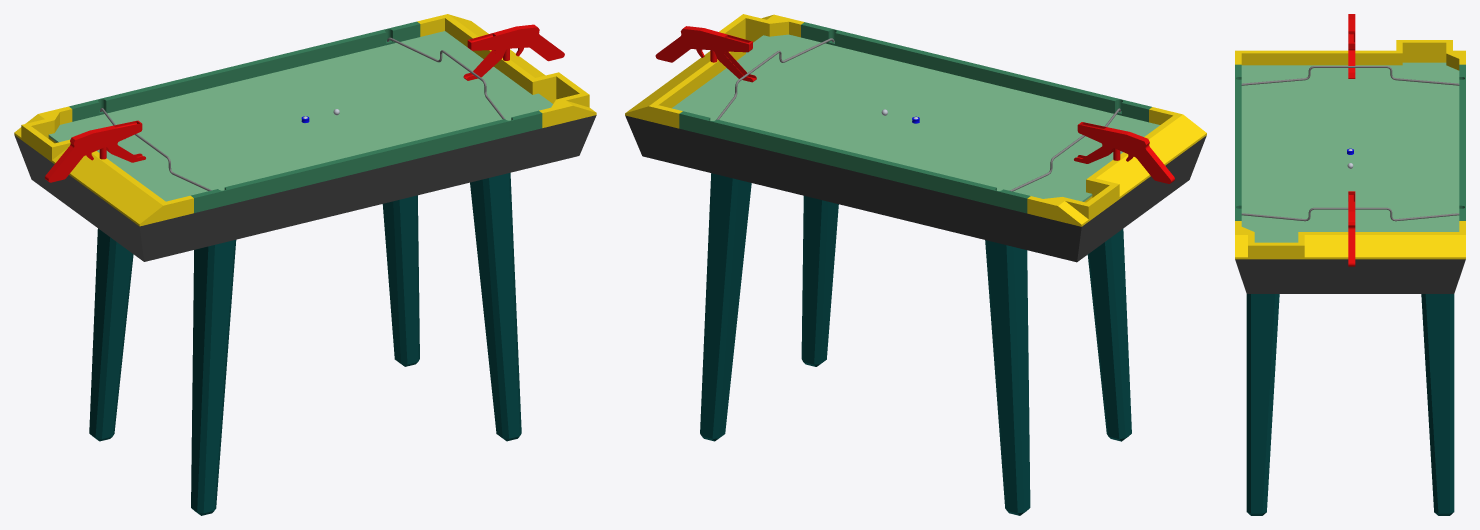
The model's file is Vintage_Crossfire_Groups.FBX.
3 views of the same model, side by side, from view 1: azimuth 30°, elevation 25°; view 2: azimuth 150°, elevation 25°; view 3: azimuth 270°, elevation 25° (orthographic). The views are drawn at different scales.
Parts seen in each view (by area): view 1: Game_area, Foot1 (×4), Masa_alt_govde, mid-sides (×2), left-side, right-side, Gun_1, Gun_2; view 2: Game_area, Foot1 (×4), Masa_alt_govde, mid-sides (×2), left-side, right-side, Gun_1, Gun_2; view 3: Game_area, Foot1 (×2), Masa_alt_govde, right-side, left-side, mid-sides (×2), Kaleler (×2), Gun_2, Gun_1, bilye_box1.
Part boxes in pixels (x1=…): Game_area: x1=48, y1=31, x2=552, y2=201; Foot1 (×4): x1=89, y1=172, x2=521, y2=515; Masa_alt_govde: x1=14, y1=115, x2=596, y2=261; mid-sides (×2): x1=69, y1=21, x2=542, y2=212; left-side: x1=14, y1=106, x2=193, y2=226; right-side: x1=417, y1=14, x2=596, y2=127; Gun_1: x1=45, y1=120, x2=145, y2=182; Gun_2: x1=463, y1=24, x2=564, y2=80; Game_area: x1=672, y1=34, x2=1159, y2=201; Foot1 (×4): x1=700, y1=173, x2=1131, y2=515; Masa_alt_govde: x1=625, y1=115, x2=1206, y2=262; mid-sides (×2): x1=679, y1=22, x2=1151, y2=213; left-side: x1=1027, y1=107, x2=1206, y2=226; right-side: x1=625, y1=14, x2=804, y2=128; Gun_1: x1=1074, y1=122, x2=1174, y2=183; Gun_2: x1=655, y1=26, x2=756, y2=82; Game_area: x1=1241, y1=62, x2=1459, y2=242; Foot1 (×2): x1=1246, y1=294, x2=1454, y2=515; Masa_alt_govde: x1=1235, y1=259, x2=1465, y2=293; right-side: x1=1235, y1=221, x2=1465, y2=259; left-side: x1=1235, y1=40, x2=1465, y2=70; mid-sides (×2): x1=1235, y1=64, x2=1465, y2=220; Kaleler (×2): x1=1241, y1=66, x2=1459, y2=221; Gun_2: x1=1348, y1=191, x2=1355, y2=266; Gun_1: x1=1348, y1=14, x2=1355, y2=78; bilye_box1: x1=1402, y1=56, x2=1446, y2=62.
Bounding box in the file's own units: 126 × 83.37 × 53.
